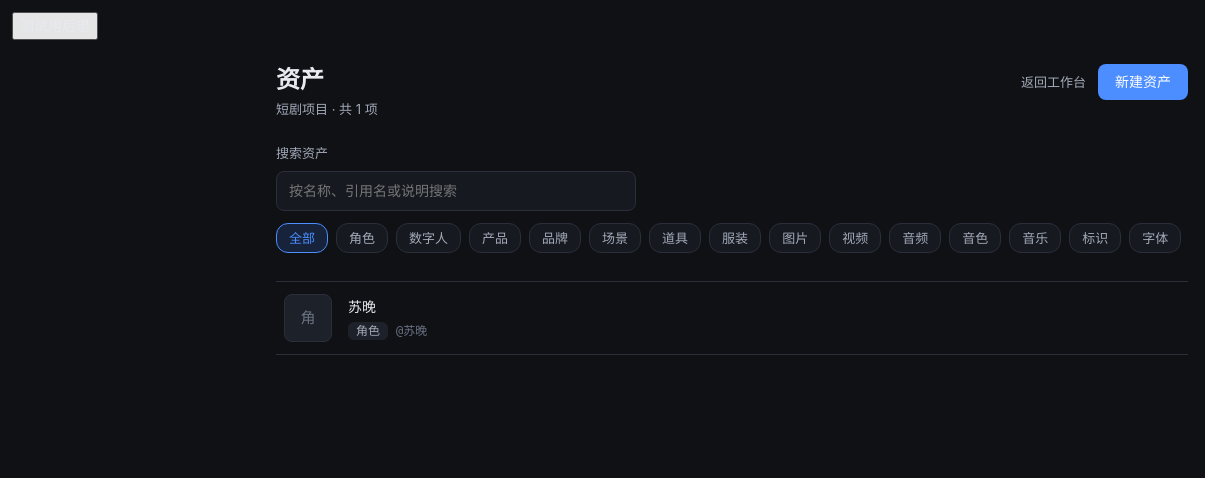
AssetLibraryPage 的三态 › 筛选后没有结果 → 是另一套空态，带「清除筛选」
The image size is (1205, 478).
Check: the button "角 苏晚 角色 @苏晚" is shown, box [276,282,1188,355]
What coordinates should you click on to do the following:
click the button "图片"
I would click on:
 (795, 238)
Its box is [769,223,821,253].
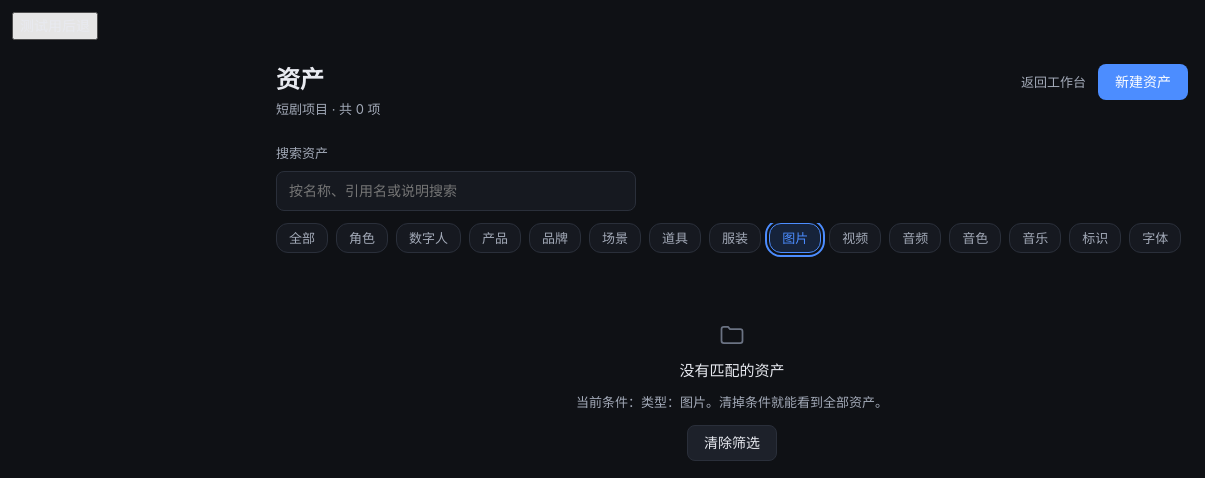
Check: the button "新建资产" is shown, box [1098,64,1188,100]
Check: the heading "没有匹配的资产" is shown, box [680,361,784,380]
Check: the text "当前条件：类型：图片。清掉条件就能看到全部资产。" is shown, box [576,392,888,413]
What coordinates should you click on to do the following:
click the button "清除筛选"
I would click on:
 (732, 443)
Its box is [687,425,777,461].
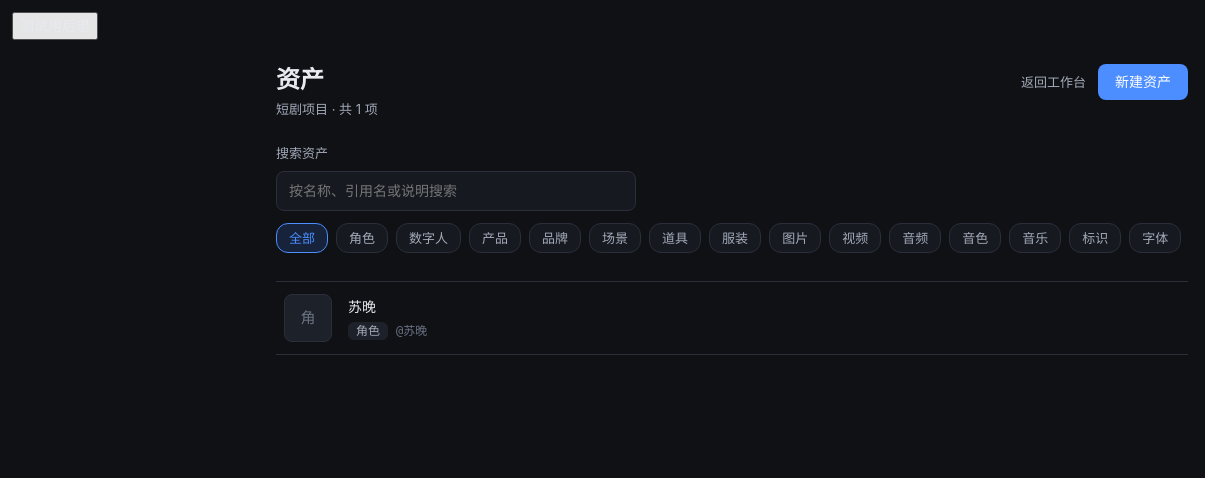
Check: the button "角 苏晚 角色 @苏晚" is shown, box [276,282,1188,355]
